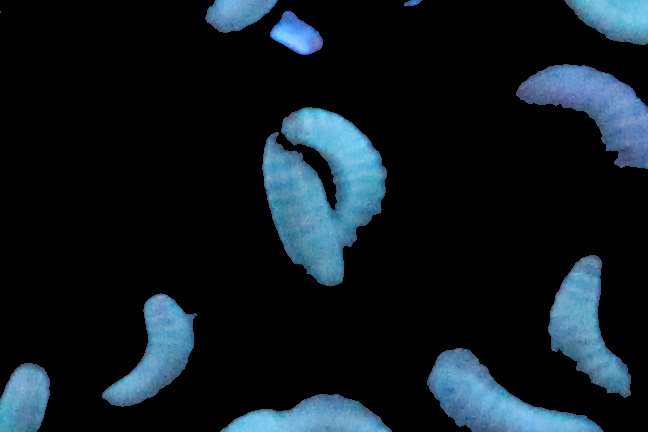larvae: (507, 52, 648, 172), (545, 248, 647, 413), (424, 343, 606, 432), (285, 98, 389, 251), (254, 128, 348, 296), (100, 279, 197, 411), (1, 1, 3, 47)
